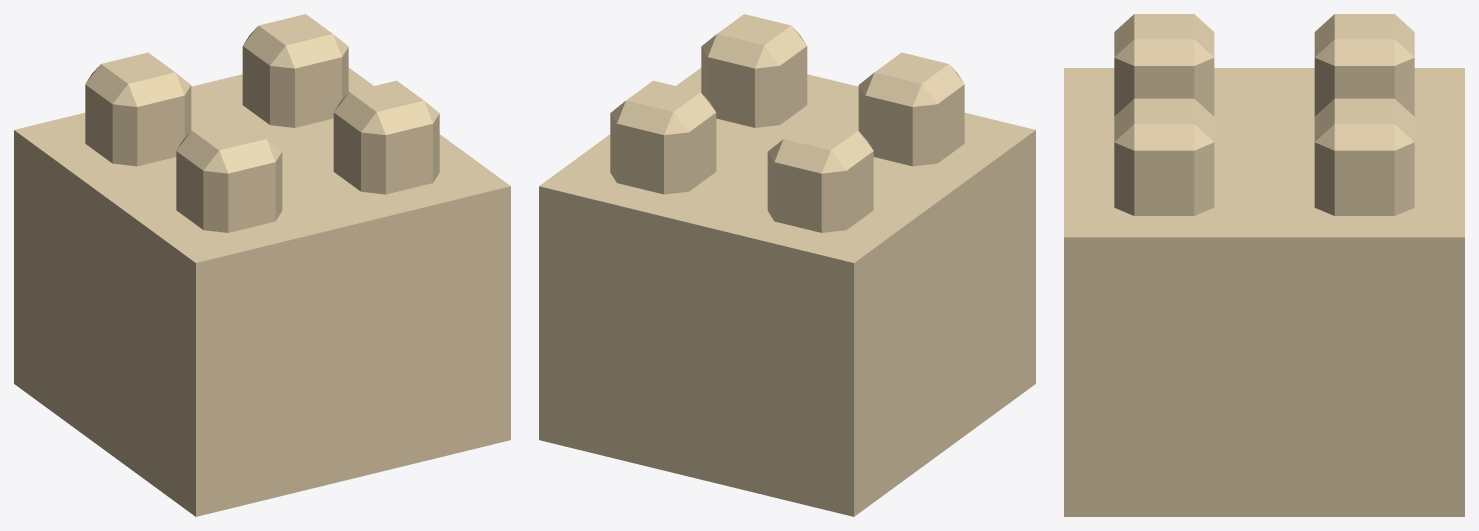
The model's file is wall.glb.
3 views of the same model, side by side, from view 1: azimuth 30°, elevation 25°; view 2: azimuth 150°, elevation 25°; view 3: azimuth 270°, elevation 25° (orthographic). The views are drawn at different scales.
Parts seen in each view (by area): view 1: wall; view 2: wall; view 3: wall.
Boxes of the visible parts, box(x1,y1,x2,y2) form: wall: box(14, 14, 510, 516); wall: box(539, 14, 1035, 516); wall: box(1064, 14, 1464, 516).
Size of the model in its own units: 1 by 1 by 1.
